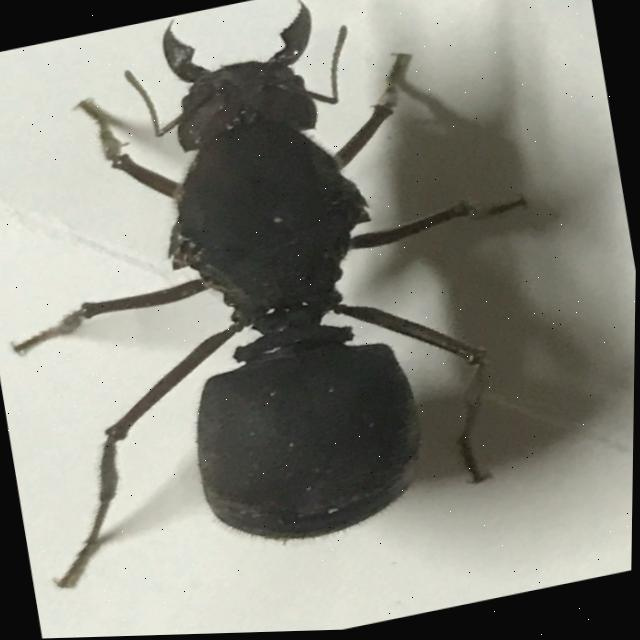Alive-Female-Dealate: (0, 0, 581, 598)
